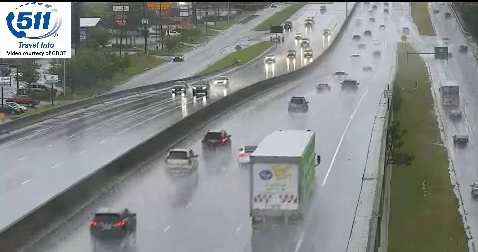car: (91, 208, 137, 238), (164, 149, 197, 172), (202, 131, 231, 151), (238, 147, 258, 163), (288, 97, 308, 112), (340, 80, 359, 93)
small-truck: (250, 129, 316, 222)
